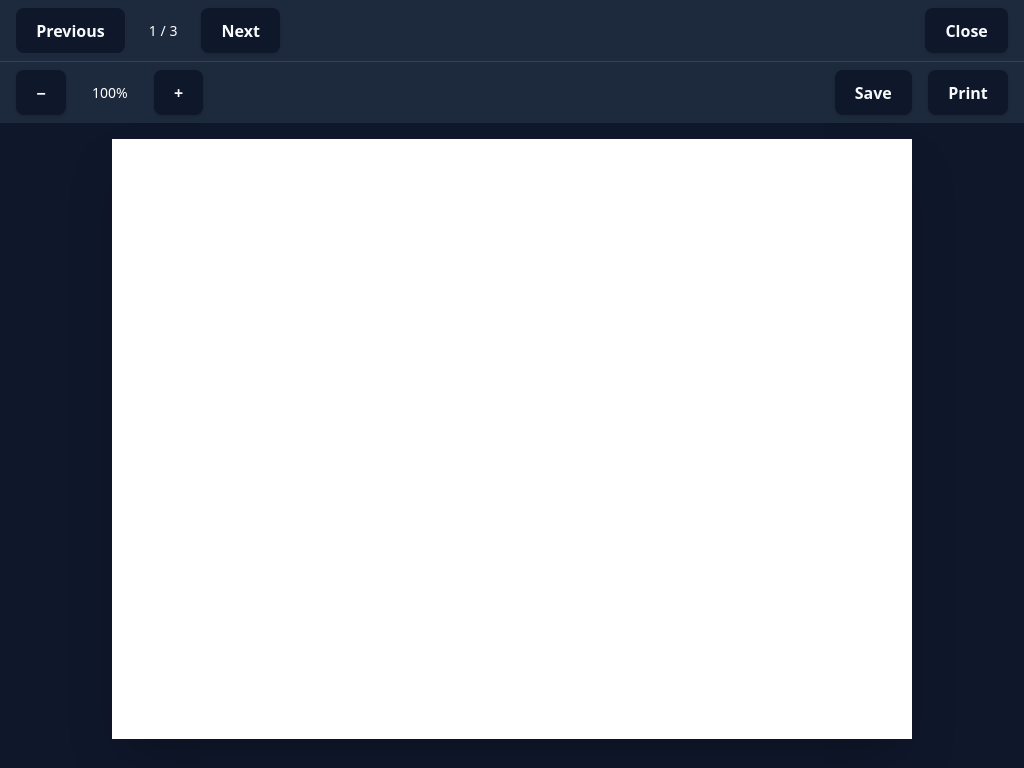
PDFViewer › zooms in when zoom in button is clicked
Click the button "+": click(178, 93) 154,70 -> 203,115
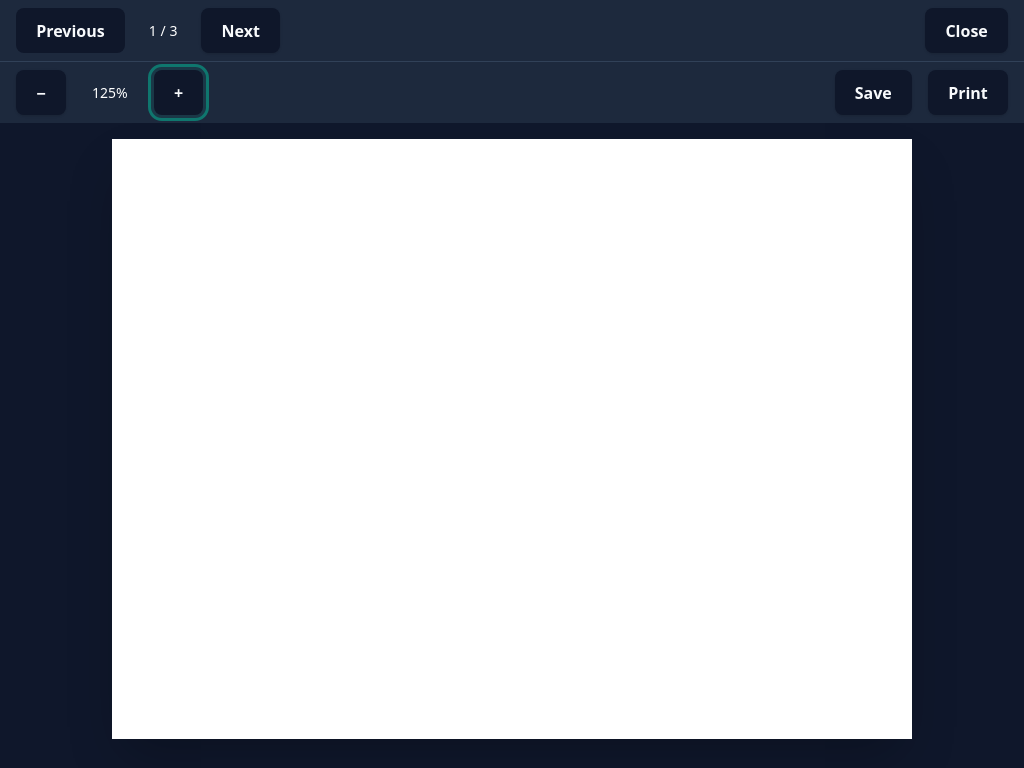
Result: the text "125%" is shown at 92,83 -> 128,102
